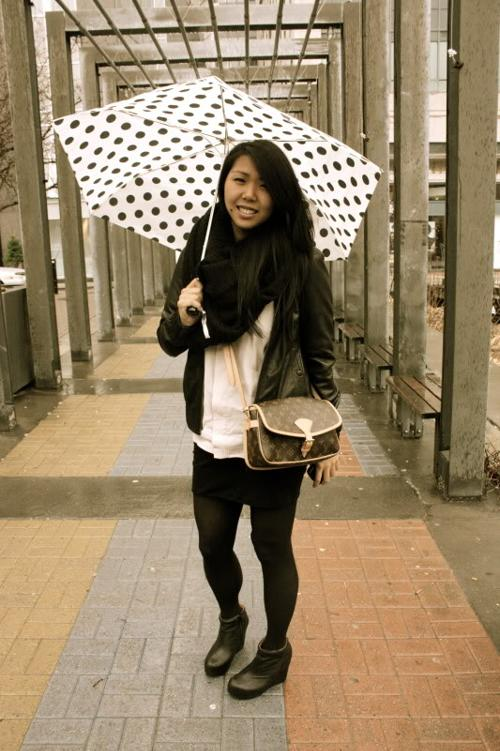person: (158, 142, 343, 700)
